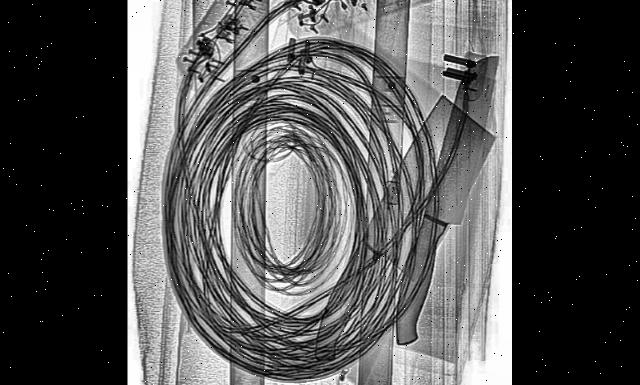Knife: (306, 52, 496, 385), (386, 27, 504, 366)
